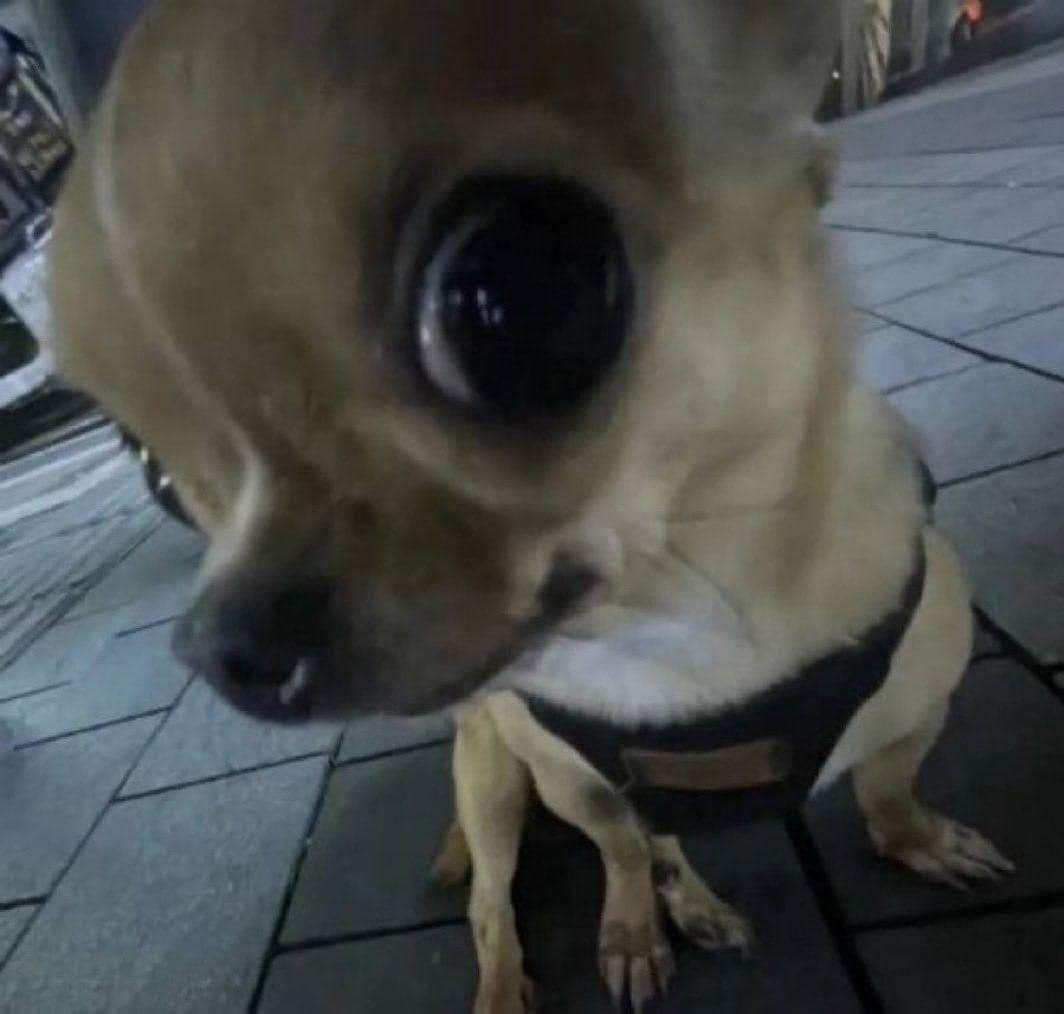adult_dog: (47, 0, 1014, 1014)
